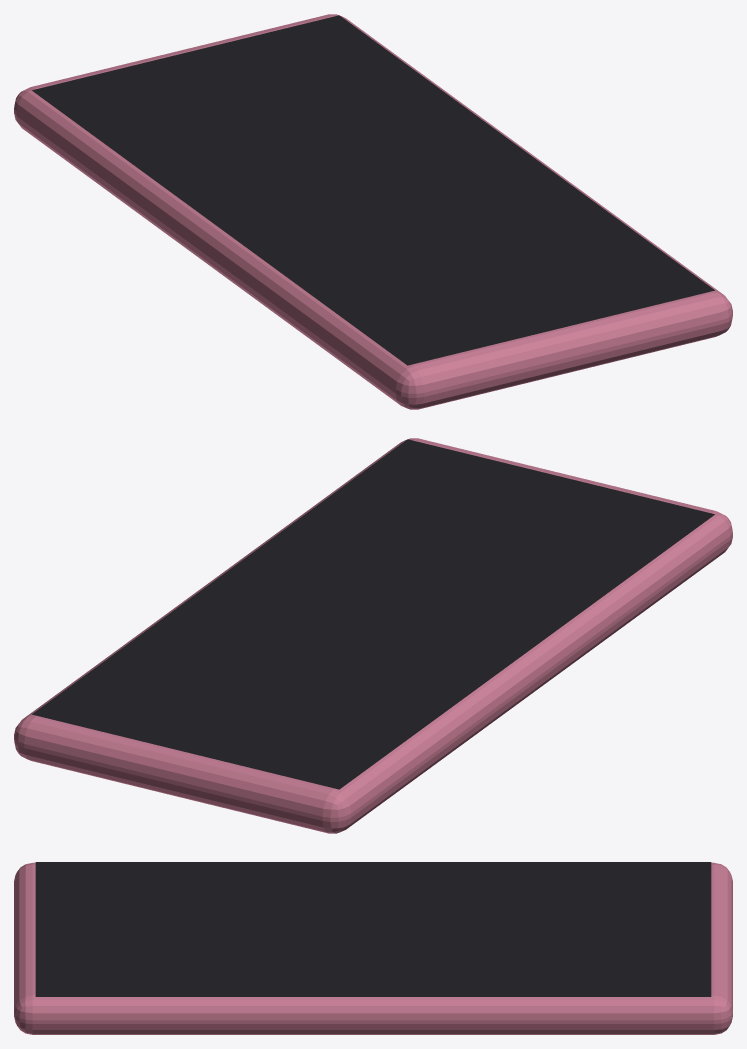
The model's file is Phone_341.glb.
3 renders of one model, top to bottom at view 1: azimuth 30°, elevation 25°; view 2: azimuth 150°, elevation 25°; view 3: azimuth 270°, elevation 25°, orthographic. The views are drawn at different scales.
Visible parts, largest first — view 1: Phone_Screen, Phone_Body; view 2: Phone_Screen, Phone_Body; view 3: Phone_Screen, Phone_Body.
Part boxes in pixels (<box>): Phone_Screen: <box>32,15,714,365</box>; Phone_Body: <box>14,14,732,409</box>; Phone_Screen: <box>32,439,714,789</box>; Phone_Body: <box>14,438,732,833</box>; Phone_Screen: <box>35,862,711,996</box>; Phone_Body: <box>14,862,732,1034</box>.
Size of the model in its own units: 0.0707 by 0.0086 by 0.1464.
